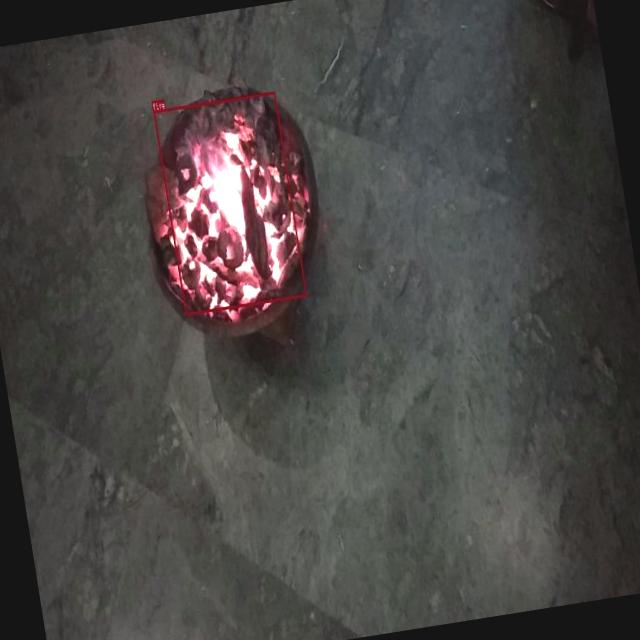fire: (153, 90, 307, 315)
